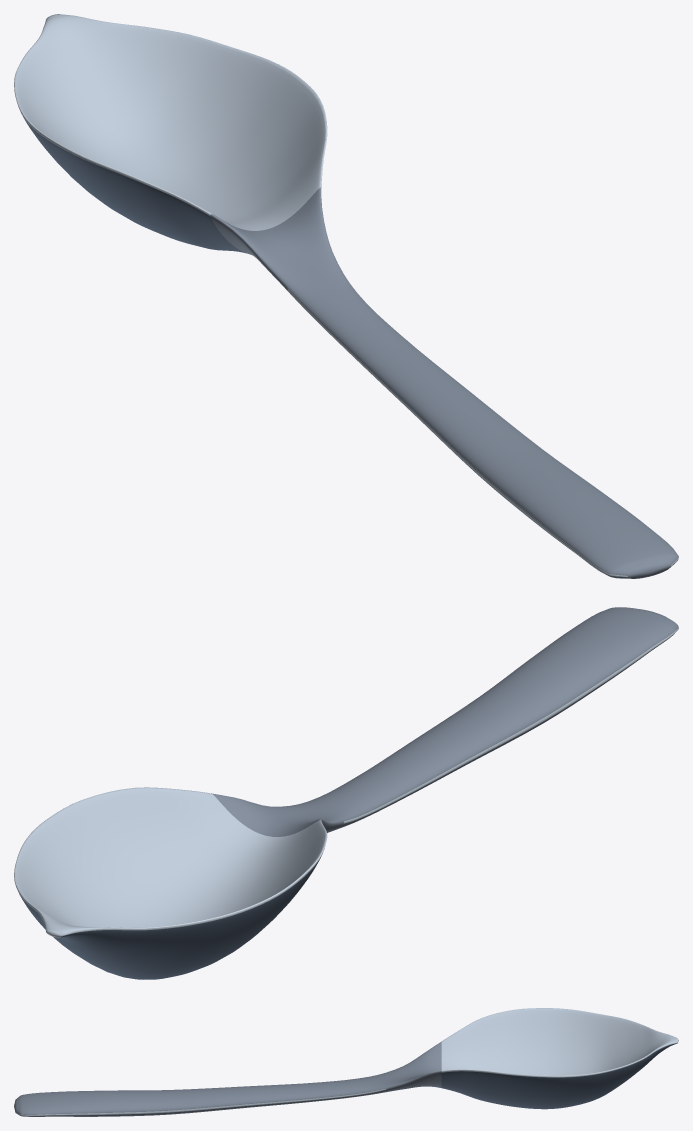
The model's file is Cuchara.fbx.
3 views of the same model, one above another, from view 1: azimuth 30°, elevation 25°; view 2: azimuth 150°, elevation 25°; view 3: azimuth 270°, elevation 25° (orthographic). The views are drawn at different scales.
Visible parts, largest first — view 1: Cuchara_Malla; view 2: Cuchara_Malla; view 3: Cuchara_Malla.
Boxes of the visible parts, x1=… form: Cuchara_Malla: x1=14, y1=14, x2=678, y2=578; Cuchara_Malla: x1=14, y1=607, x2=678, y2=979; Cuchara_Malla: x1=14, y1=1008, x2=678, y2=1116.
Size of the model in its own units: 0.2181 by 0.1093 by 0.9.
